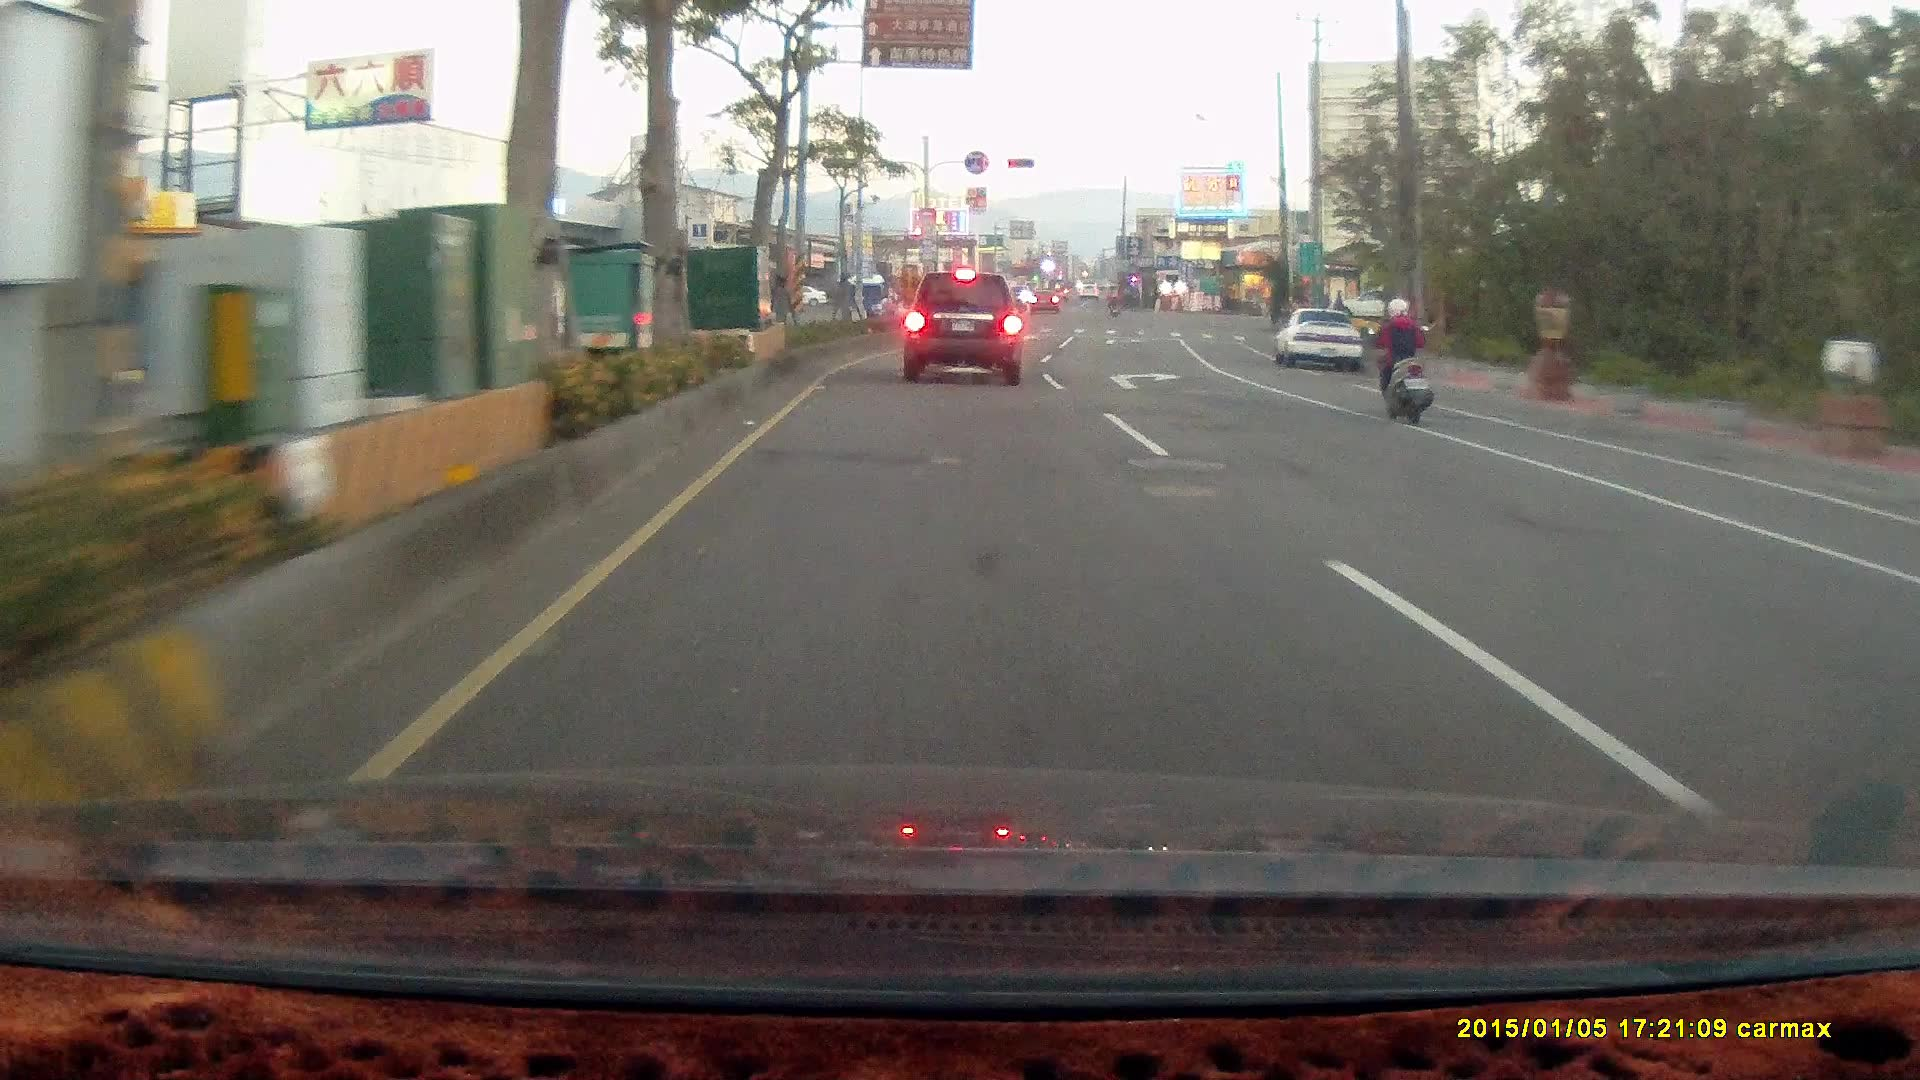rider: (1363, 291, 1434, 423)
vehicle: (901, 271, 1021, 385), (1896, 493, 1920, 836), (1270, 303, 1363, 370), (1883, 528, 1920, 690), (1277, 308, 1363, 372), (1321, 286, 1400, 322)
